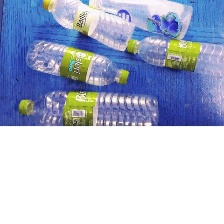bottle: (12, 86, 164, 136), (23, 34, 135, 88), (123, 30, 224, 86), (40, 0, 138, 53), (86, 0, 197, 42)
